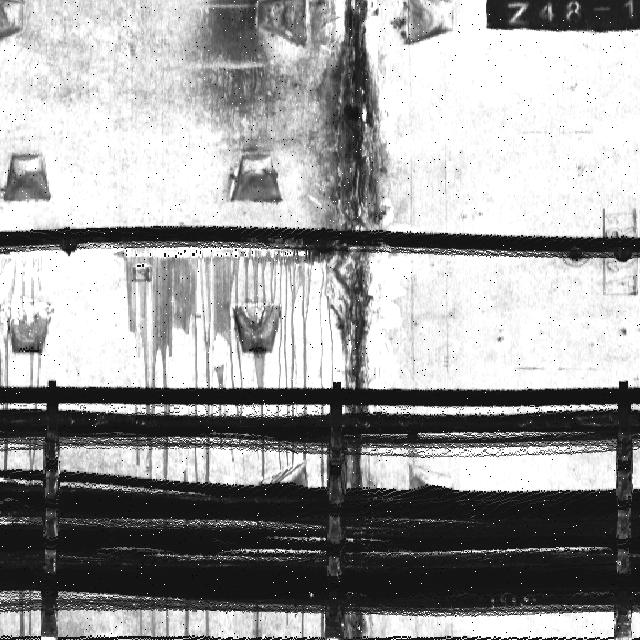leakage: (294, 0, 402, 383), (99, 238, 318, 400)
